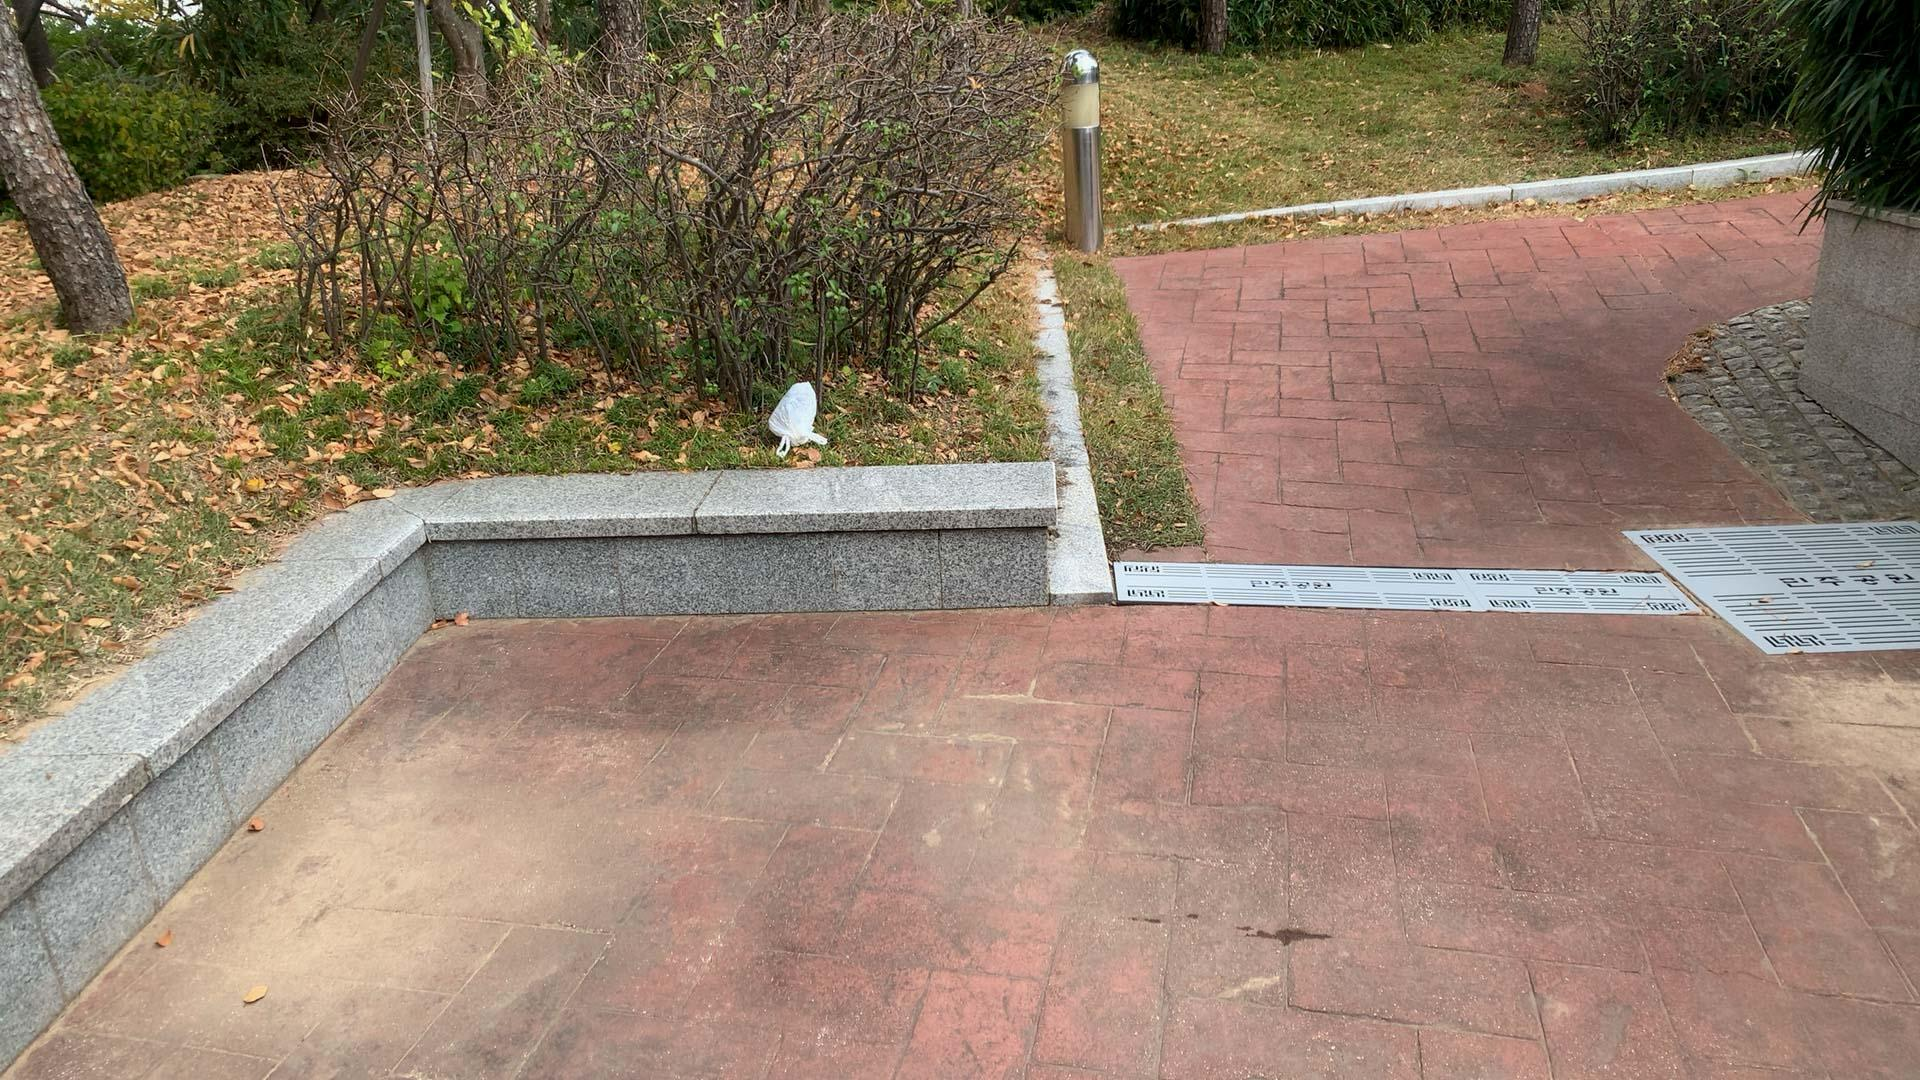white_bag: (760, 378, 836, 464)
